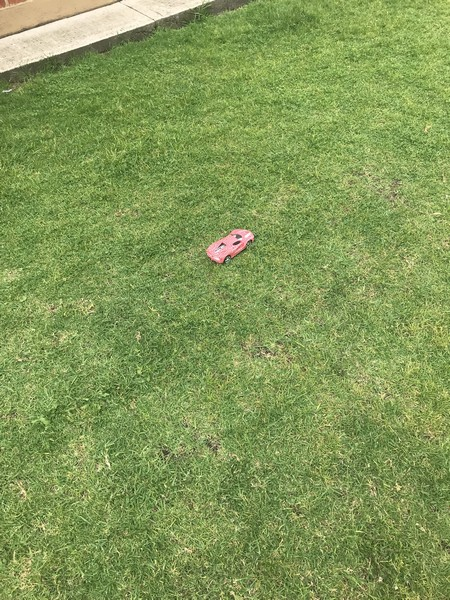RC: (204, 227, 256, 265)
